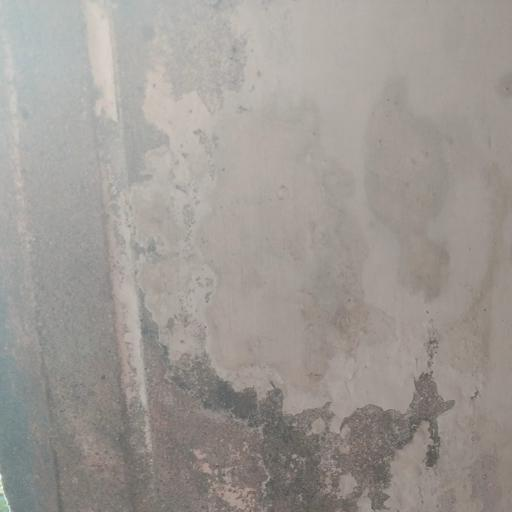peeling: (119, 2, 512, 495)
